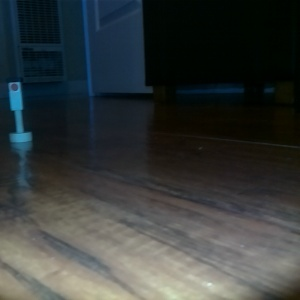traffic light red: (4, 75, 34, 145)
